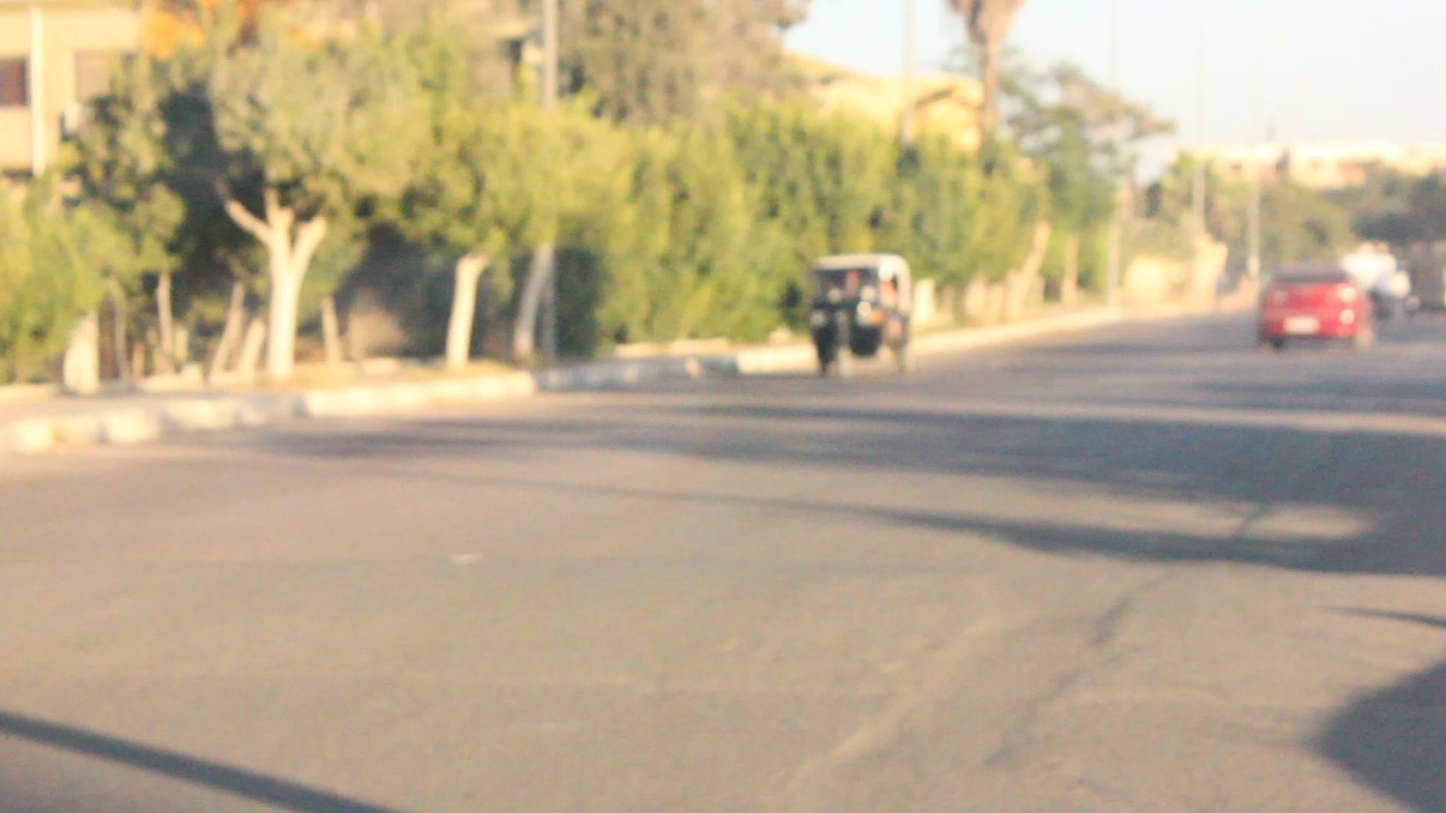Bump: (9, 553, 1446, 713)
Pothole: (870, 627, 1073, 796)
